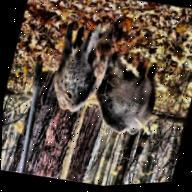boar: (84, 47, 166, 144), (45, 12, 119, 119)
